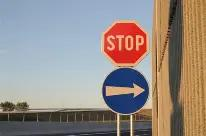Stop: (103, 22, 146, 64)
